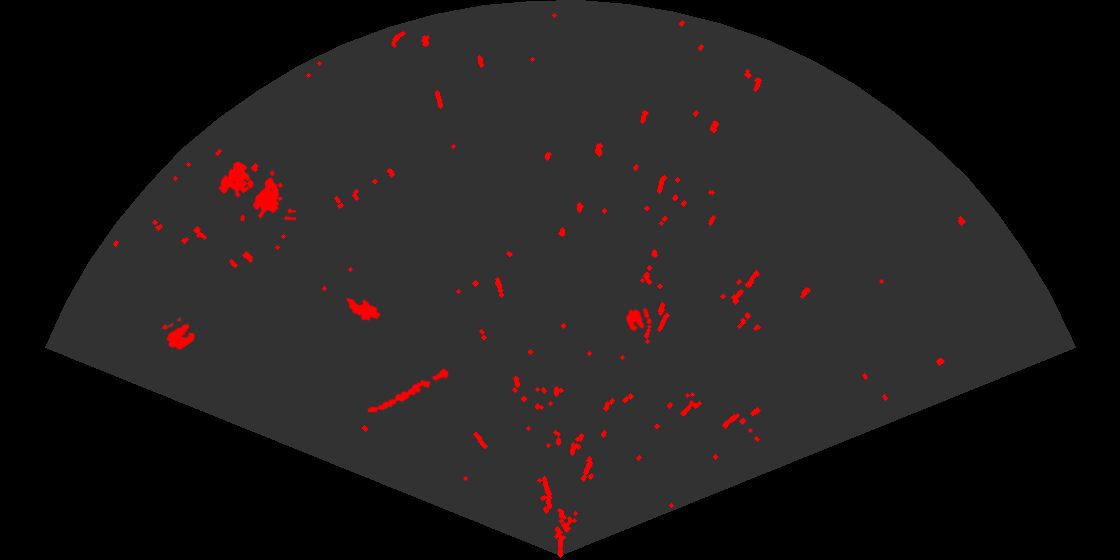AUV: (345, 296, 382, 322)
ball: (161, 317, 196, 351), (624, 306, 653, 333)
cage: (217, 160, 296, 221)
chain: (366, 367, 450, 414)
